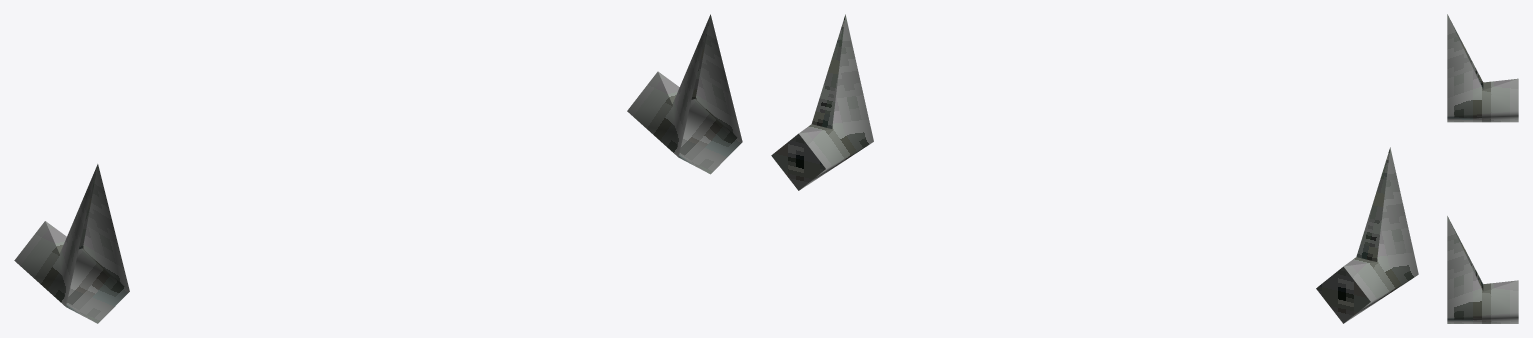
File: kse_firespray_booster_s01_l2.fbx
3 renders of one model, left to right at view 1: azimuth 30°, elevation 25°; view 2: azimuth 150°, elevation 25°; view 3: azimuth 270°, elevation 25°, orthographic. The views are drawn at different scales.
Parts seen in each view (by area): view 1: mesh_node; view 2: mesh_node; view 3: mesh_node.
Boxes of the visible parts, x1=… form: mesh_node: x1=14, y1=14, x2=742, y2=323; mesh_node: x1=771, y1=14, x2=1418, y2=323; mesh_node: x1=1447, y1=14, x2=1518, y2=323.
Size of the model in its own units: 10.04 by 2.28 by 1.35.
